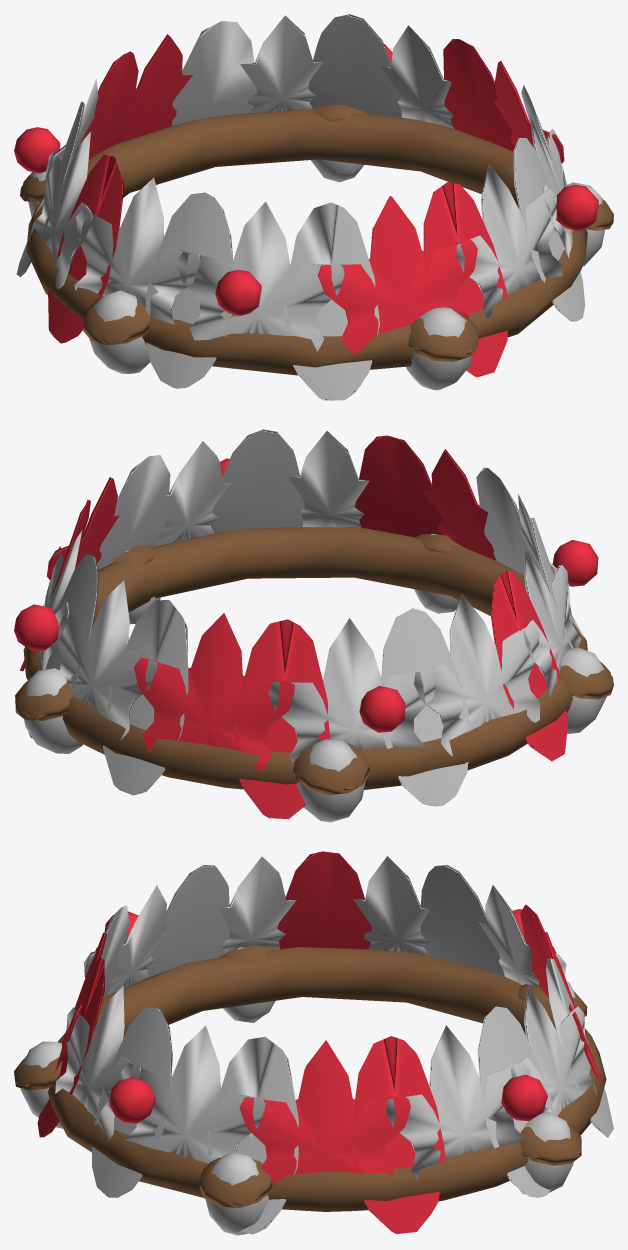
File: LeafCrown.obj
3 renders of one model, top to bottom at view 1: azimuth 30°, elevation 25°; view 2: azimuth 150°, elevation 25°; view 3: azimuth 270°, elevation 25°, orthographic.
Visible parts, largest first — view 1: Bark, Berry, Leaf2, Leaf3, Leaf, Acorn; view 2: Bark, Berry, Leaf2, Leaf3, Leaf, Acorn; view 3: Bark, Berry, Leaf2, Leaf3, Leaf, Acorn.
Boxes of the visible parts, x1,y1,x2,y2 form: Bark: [20, 104, 613, 375]; Berry: [14, 34, 598, 377]; Leaf2: [28, 15, 572, 400]; Leaf3: [34, 25, 562, 324]; Leaf: [16, 14, 585, 388]; Acorn: [28, 159, 604, 390]; Bark: [15, 527, 613, 794]; Berry: [14, 435, 598, 819]; Leaf2: [55, 441, 583, 795]; Leaf3: [40, 431, 581, 762]; Leaf: [28, 429, 573, 806]; Acorn: [24, 534, 606, 822]; Bark: [14, 945, 606, 1211]; Berry: [37, 851, 602, 1233]; Leaf2: [84, 856, 613, 1234]; Leaf3: [55, 856, 566, 1179]; Leaf: [92, 865, 554, 1197]; Acorn: [20, 947, 575, 1235].
Bounding box in the file's own units: 1.55 × 0.521 × 1.56.
